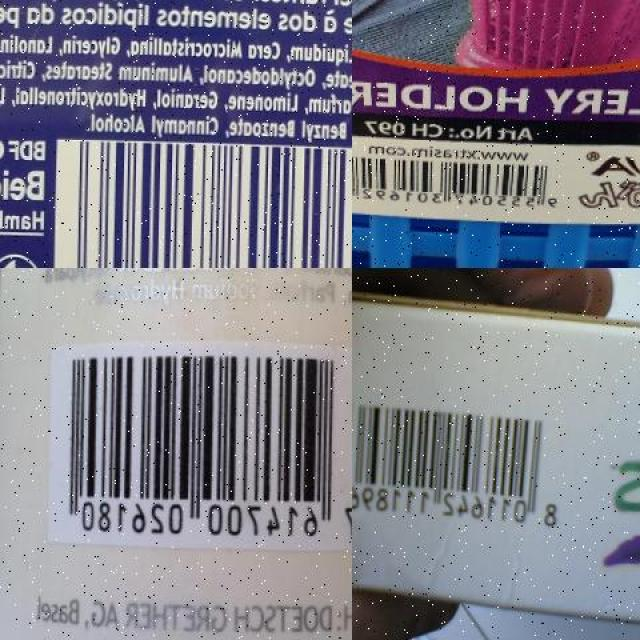Barcode: (47, 337, 352, 548), (53, 139, 352, 268), (352, 379, 576, 549), (352, 151, 563, 208)
